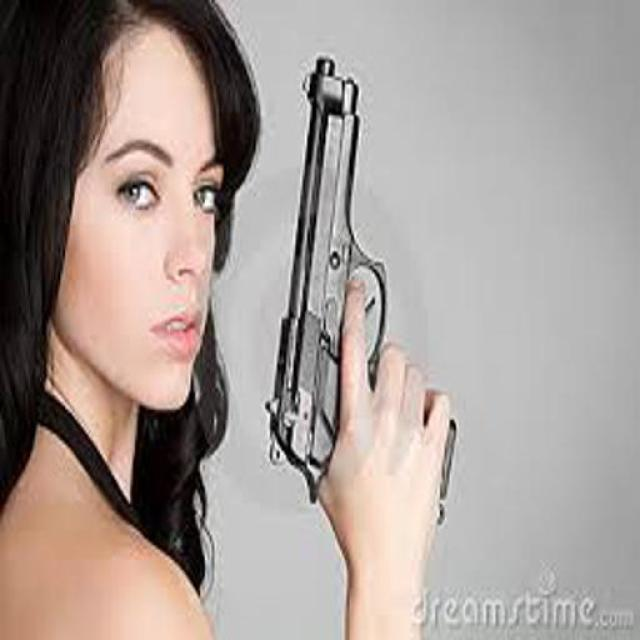pistol: (260, 55, 454, 527)
